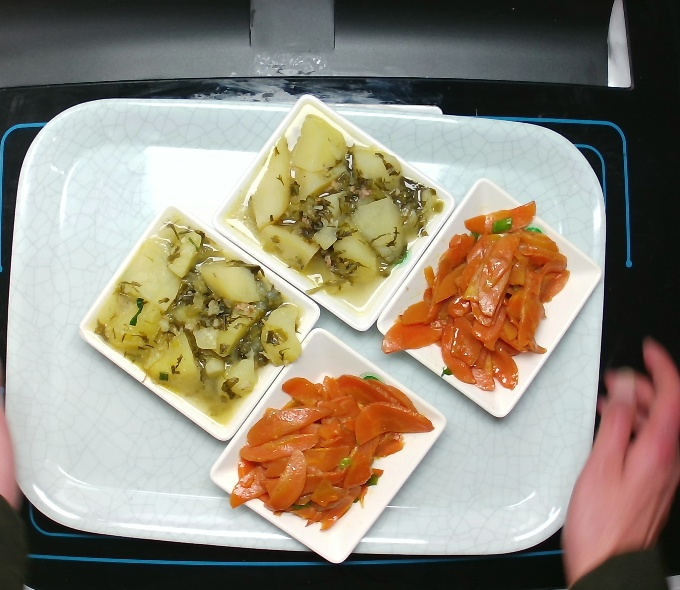wcq-HuLuoBo: (380, 197, 577, 407), (221, 369, 438, 529)
wcq-XueCaiTuDou: (98, 224, 298, 420), (240, 119, 445, 305)
